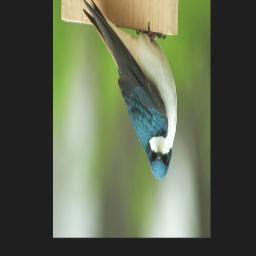Swallow: (81, 0, 178, 181)
